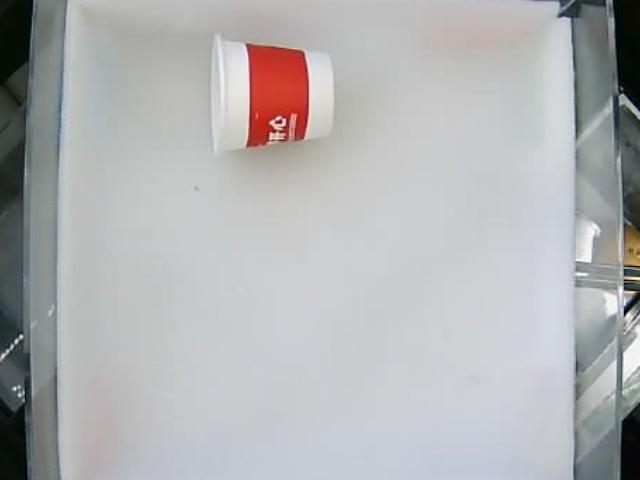Cup: (201, 33, 335, 153)
